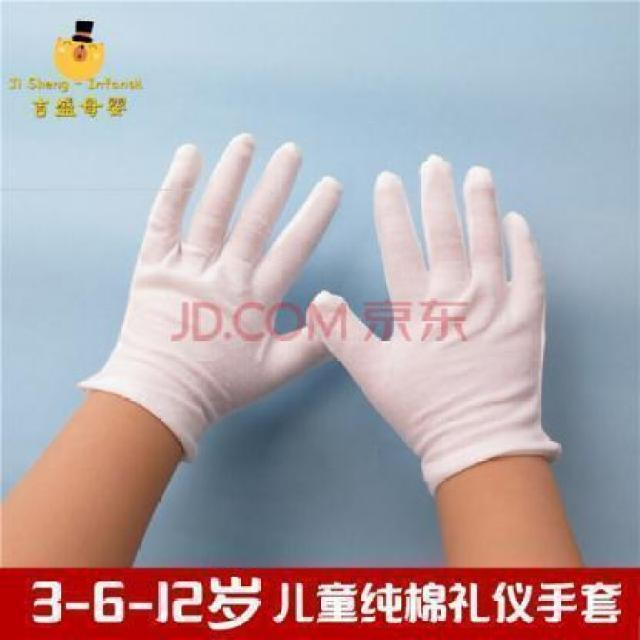gloves: (304, 150, 556, 444), (122, 129, 360, 429)
